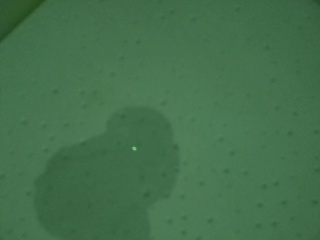Water_detected: (68, 121, 166, 230)
